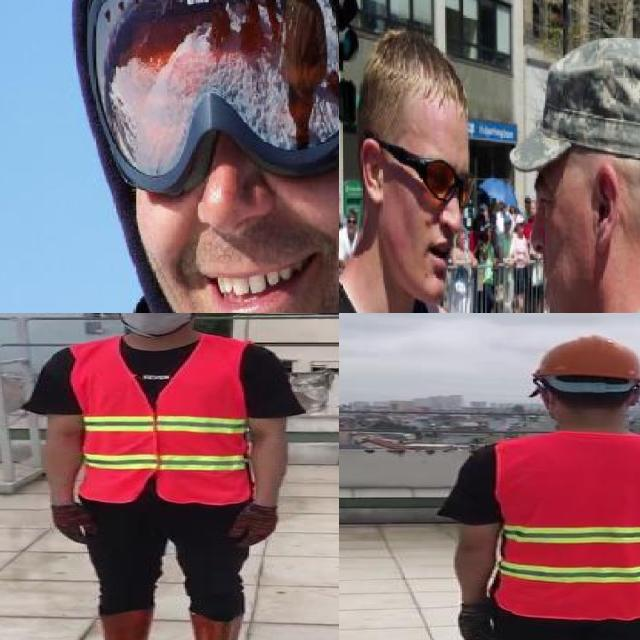boots: (81, 610, 151, 640), (190, 611, 252, 640)
face_mask: (107, 313, 196, 336)
face_nomask: (73, 0, 339, 313), (405, 157, 477, 286), (521, 184, 575, 313)
glasses: (77, 0, 339, 176), (410, 152, 472, 208)
hand_glove: (50, 503, 101, 544), (230, 506, 278, 549), (455, 601, 494, 640)
head_helmet: (531, 335, 640, 383)
head_nohelmet: (511, 41, 640, 174), (364, 40, 469, 120)
person: (30, 313, 302, 640), (439, 333, 640, 640), (339, 49, 494, 313), (505, 51, 640, 313)
vest: (75, 335, 251, 504), (495, 432, 640, 620)
